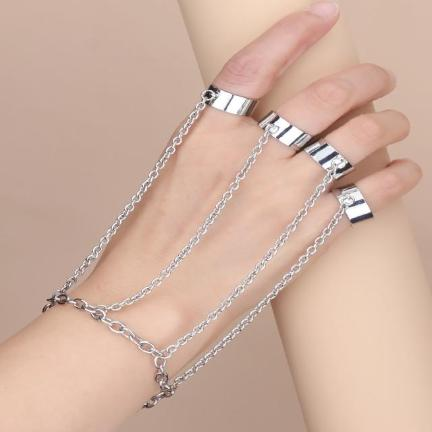Nail: (309, 0, 339, 18)
